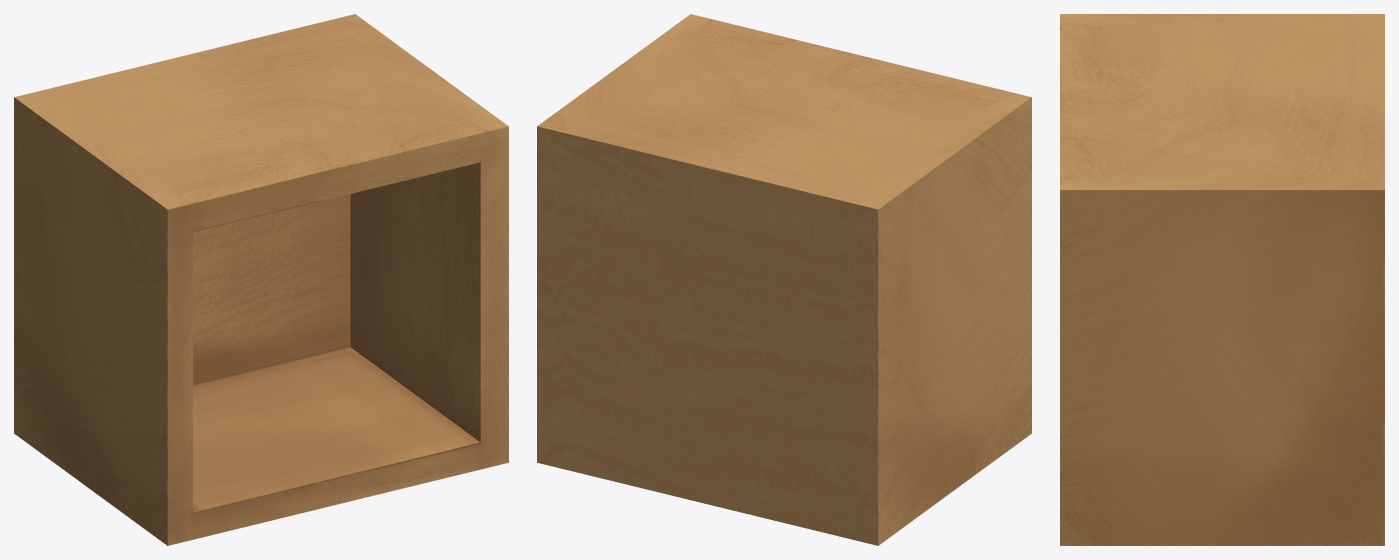
File: Furniture-Block.fbx
3 views of the same model, side by side, from view 1: azimuth 30°, elevation 25°; view 2: azimuth 150°, elevation 25°; view 3: azimuth 270°, elevation 25° (orthographic). The views are drawn at different scales.
Visible parts, largest first — view 1: Block_Furniture.009; view 2: Block_Furniture.009; view 3: Block_Furniture.009.
Part boxes in pixels (x1,y1,x2,y2): Block_Furniture.009: (14,14,508,545); Block_Furniture.009: (537,14,1031,545); Block_Furniture.009: (1060,14,1384,545).
Size of the model in its own units: 90.29 by 85.06 by 70.39.
